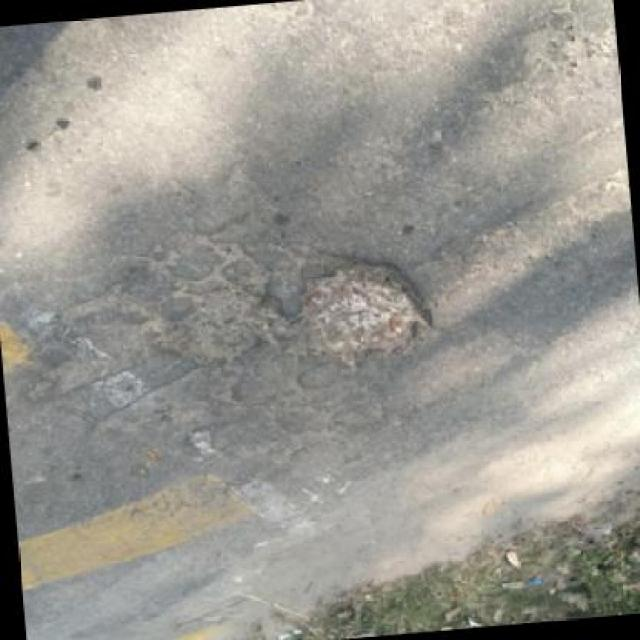pothole1: (286, 248, 442, 374), (146, 278, 292, 374)
